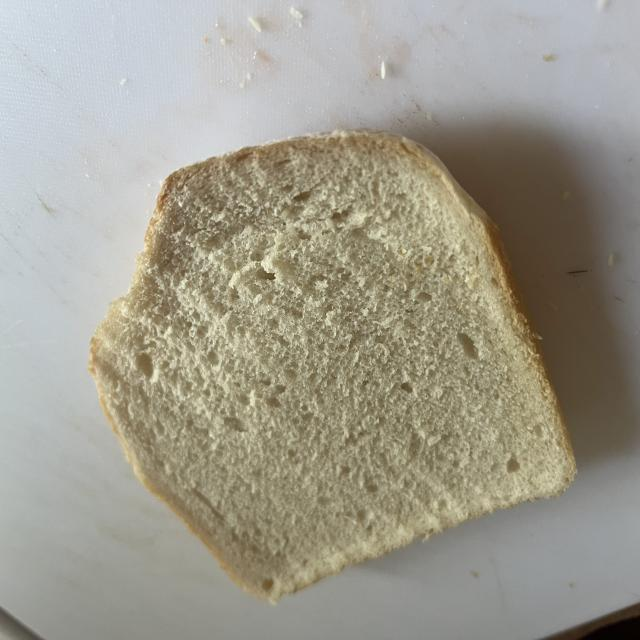sliced_bread: (90, 131, 575, 602)
